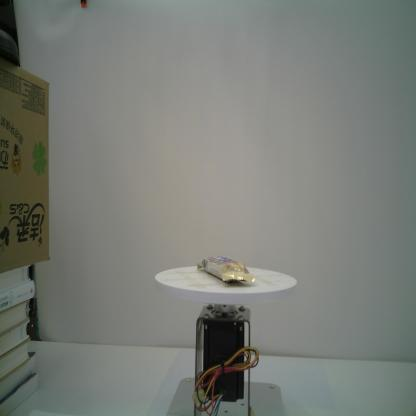Chocolate: (198, 255, 256, 283)
